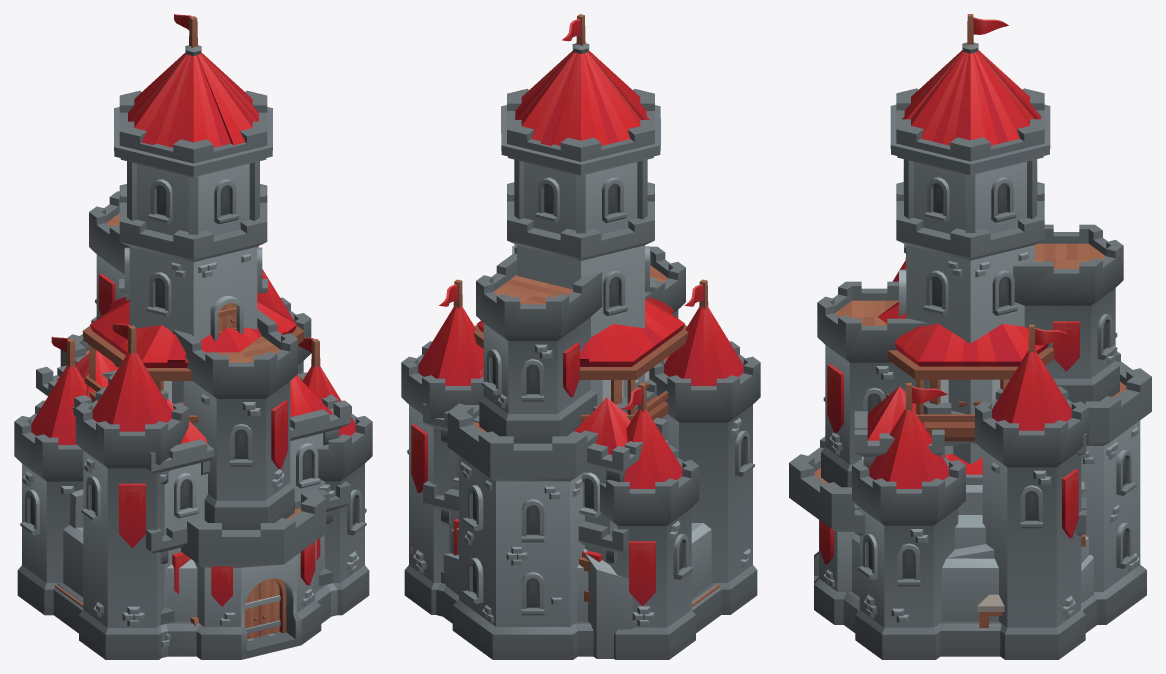
Rendered from volcano.glb.
The picture shows the model from 3 angles, left to right: view 1: azimuth 30°, elevation 25°; view 2: azimuth 150°, elevation 25°; view 3: azimuth 270°, elevation 25°; orthographic projection.
Visible parts, largest first — view 1: building_castle_red, building_barracks_red, building_tower_B_top_red, building_mine_red; view 2: building_castle_red, building_barracks_red, building_tower_B_top_red, building_mine_red; view 3: building_castle_red, building_tower_B_top_red, building_barracks_red, building_mine_red, building_market_red, building_tower_B_red.
Part boxes in pixels (<box>): building_castle_red: <box>14,14,372,659</box>; building_barracks_red: <box>36,350,350,657</box>; building_tower_B_top_red: <box>82,296,304,430</box>; building_mine_red: <box>69,489,274,641</box>; building_castle_red: <box>401,14,760,659</box>; building_barracks_red: <box>423,356,668,616</box>; building_tower_B_top_red: <box>473,297,688,421</box>; building_mine_red: <box>443,549,632,658</box>; building_castle_red: <box>789,14,1151,659</box>; building_tower_B_top_red: <box>878,301,1054,441</box>; building_barracks_red: <box>854,386,1086,611</box>; building_mine_red: <box>947,515,1093,602</box>; building_market_red: <box>977,534,1085,627</box>; building_tower_B_red: <box>923,401,976,454</box>.
Size of the model in its own units: 1.98 by 3.98 by 2.26.
Materials: 1 (1 with a texture image).
